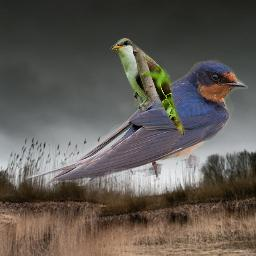Cuckoo: (108, 38, 190, 136)
Swallow: (25, 59, 248, 186)
